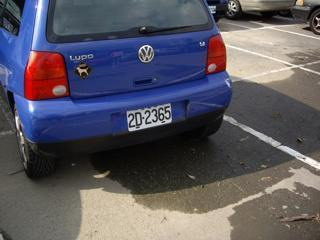plate: (125, 104, 175, 130)
